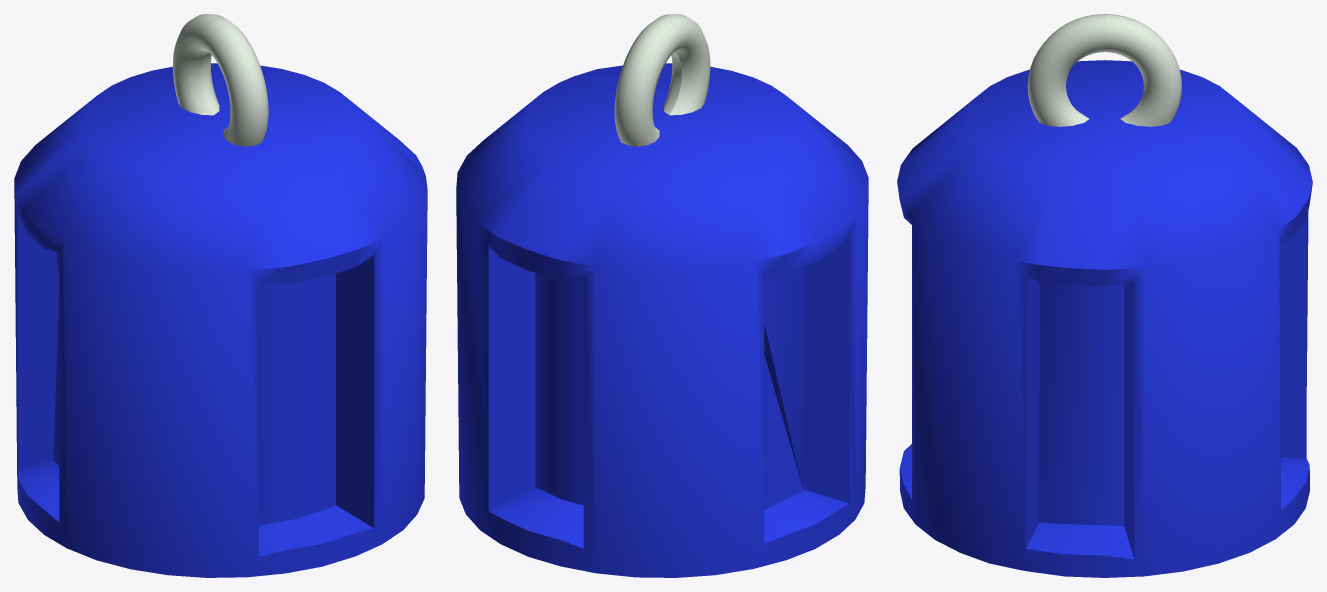
3 views of the same model, side by side, from view 1: azimuth 30°, elevation 25°; view 2: azimuth 150°, elevation 25°; view 3: azimuth 270°, elevation 25° (orthographic).
Parts seen in each view (by area): view 1: Object_6, split_parent_3; view 2: Object_6, split_parent_3; view 3: Object_6, split_parent_3.
Part boxes in pixels (x1,y1,x2,y2): Object_6: (14,63,427,577); split_parent_3: (172,14,268,146); Object_6: (456,63,868,577); split_parent_3: (614,14,710,146); Object_6: (897,60,1312,577); split_parent_3: (1027,14,1181,126).
Bounding box in the file's own units: 0.7929 × 1 × 0.7925.
